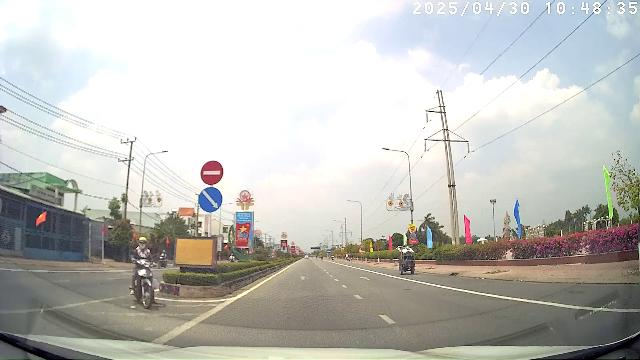102-cam-di-nguoc-chieu: (200, 160, 224, 186)
302a-huong-phai-di-vong-chuong-ngai-vat-1: (199, 187, 223, 214)
